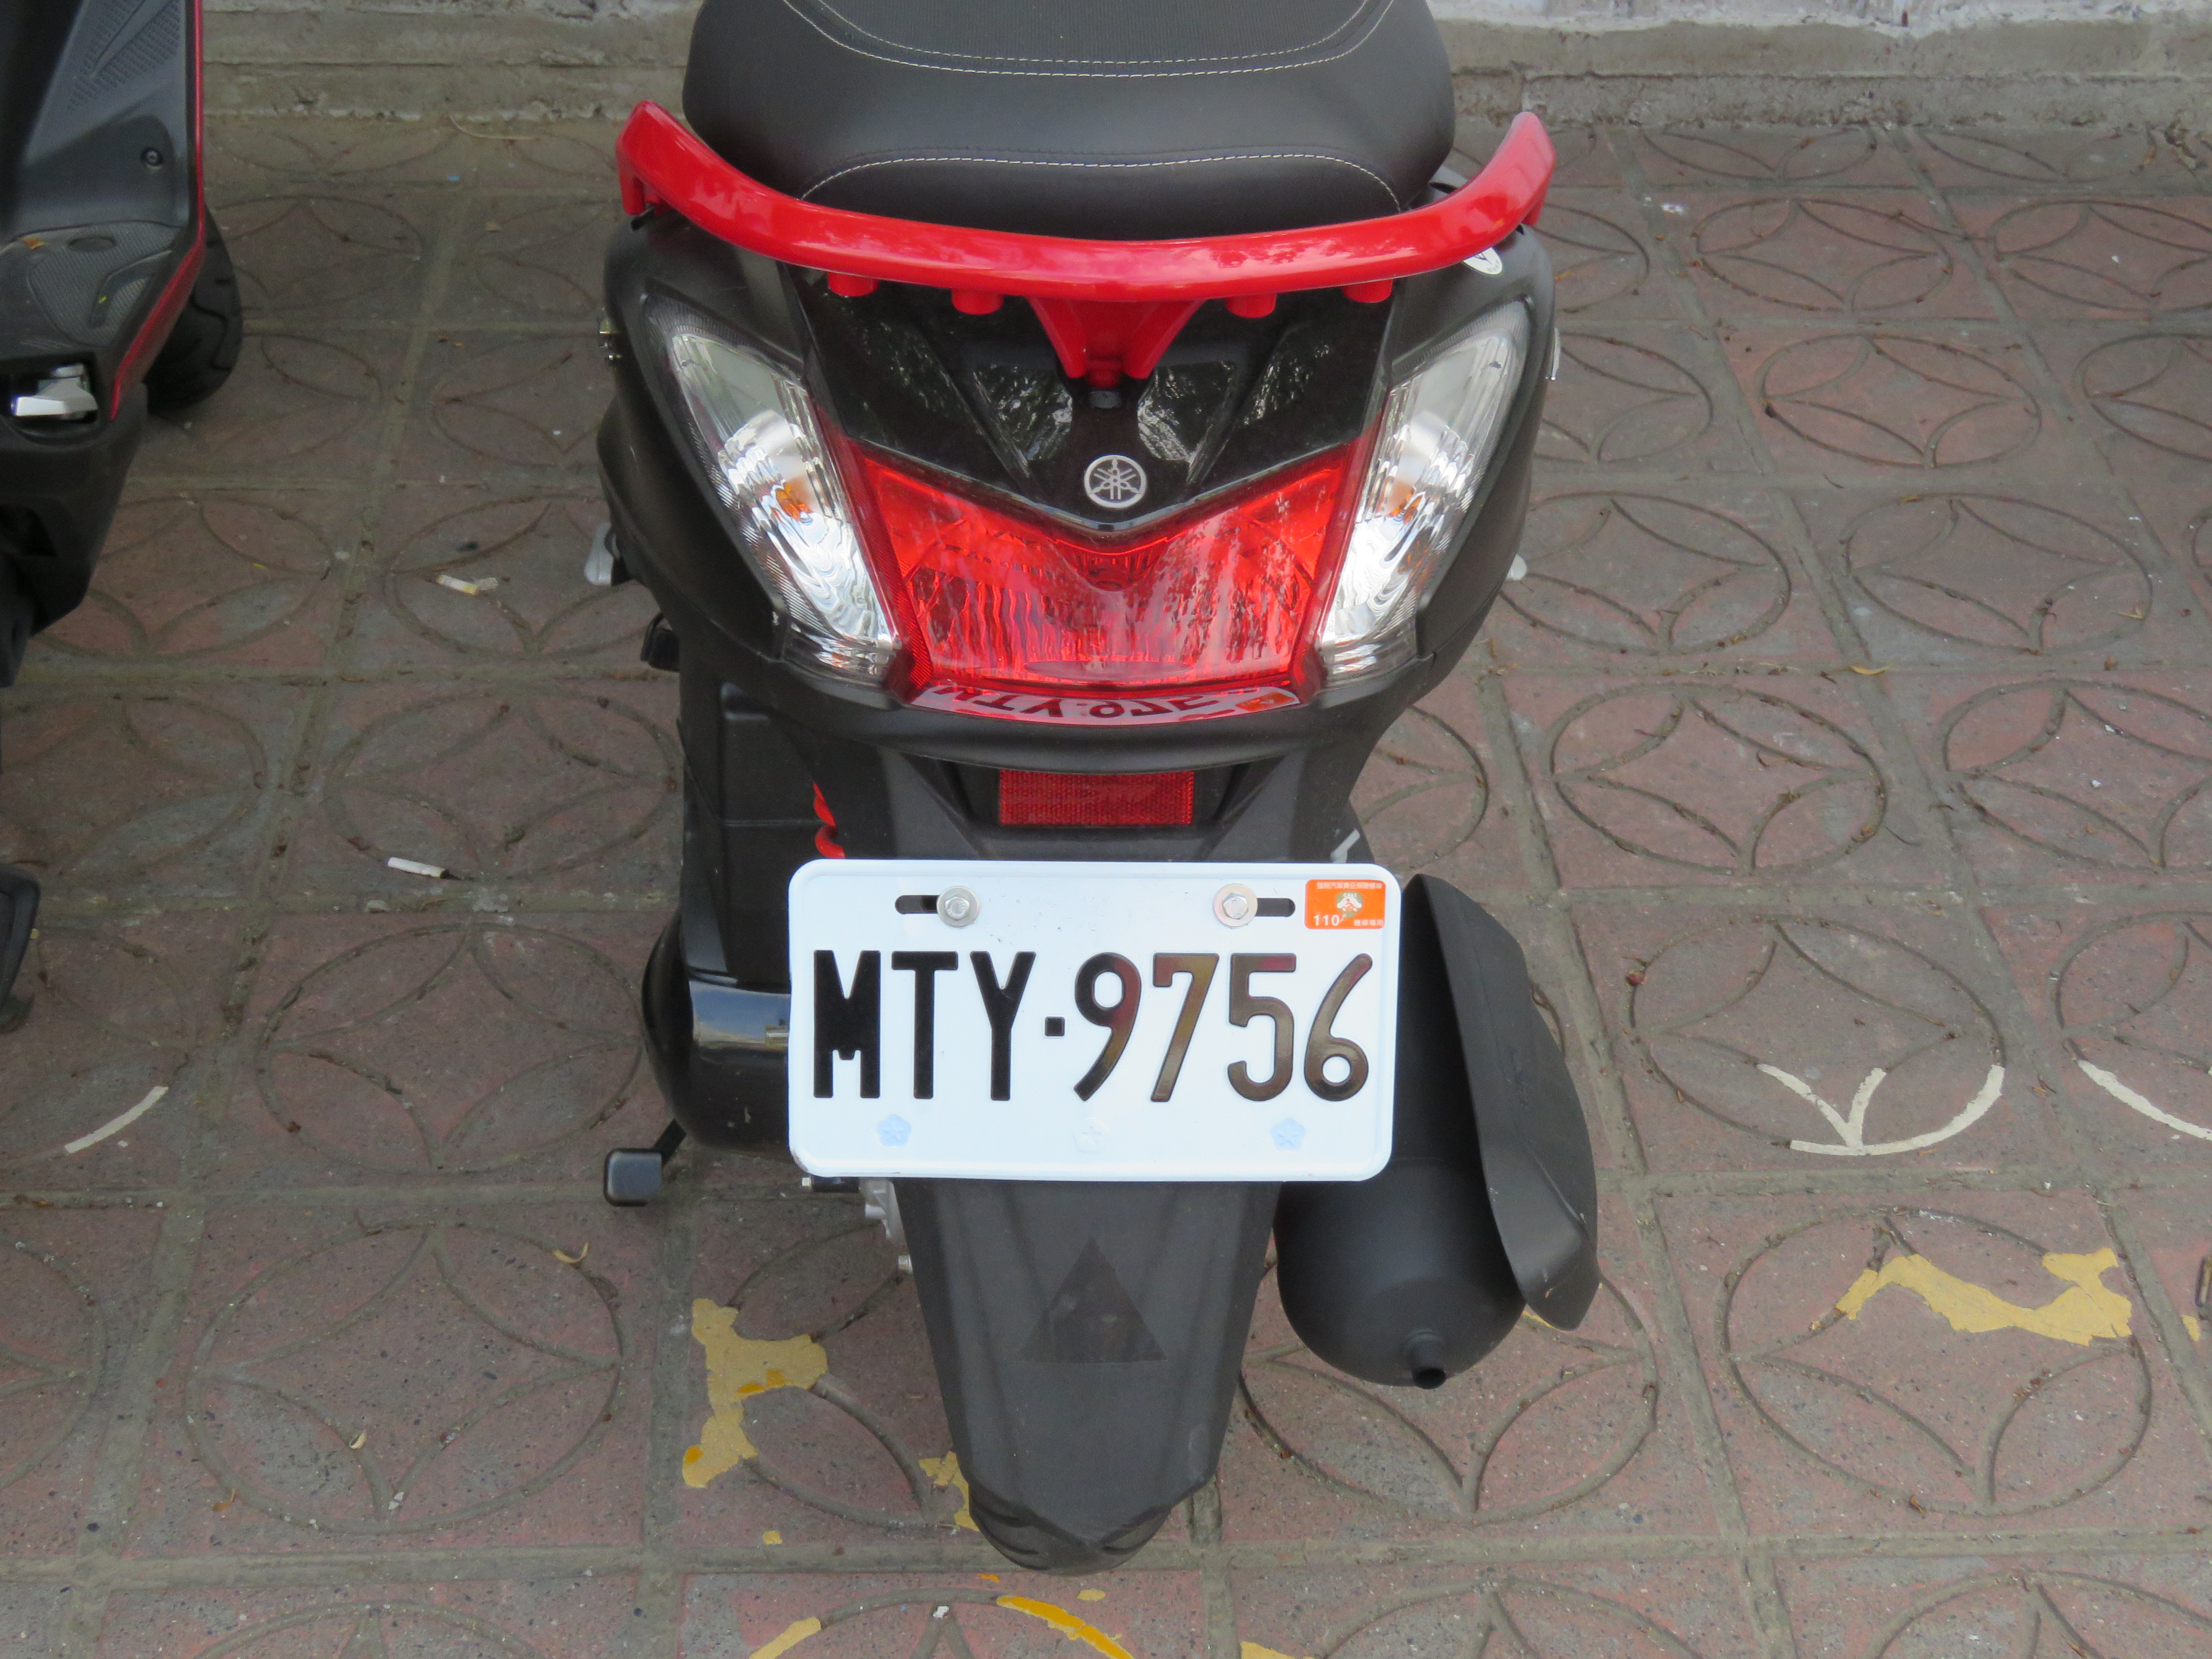car_card: (784, 859, 1397, 1185)
moto: (613, 59, 1561, 1551)
